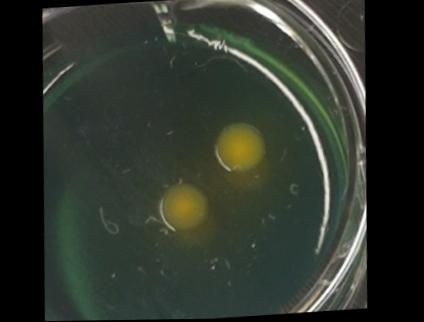vharveyi: (211, 115, 274, 176), (154, 175, 214, 239)
